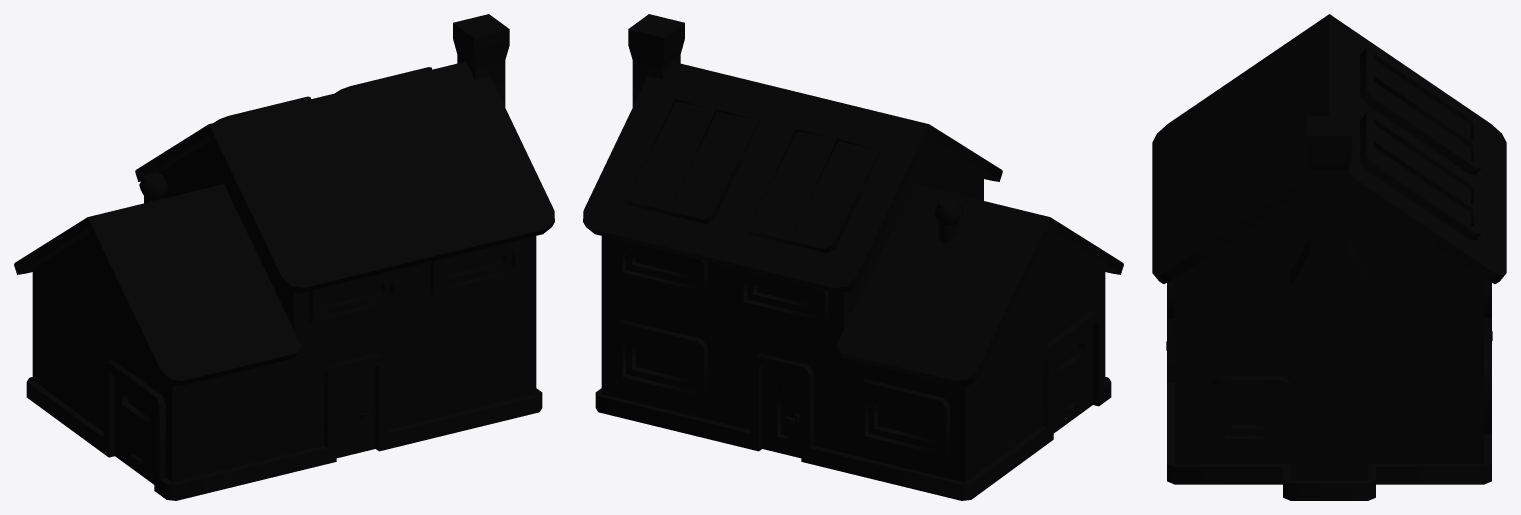
The model's file is building-type-j.glb.
3 renders of one model, left to right at view 1: azimuth 30°, elevation 25°; view 2: azimuth 150°, elevation 25°; view 3: azimuth 270°, elevation 25°, orthographic. The views are drawn at different scales.
Parts seen in each view (by area): view 1: building-type-j; view 2: building-type-j; view 3: building-type-j.
Part boxes in pixels (x1,y1,x2,y2): building-type-j: [14, 14, 554, 500]; building-type-j: [583, 14, 1123, 500]; building-type-j: [1152, 14, 1506, 500].
Bounding box in the file's own units: 1.37 × 1.04 × 0.9161.
1 material, 1 textured.
